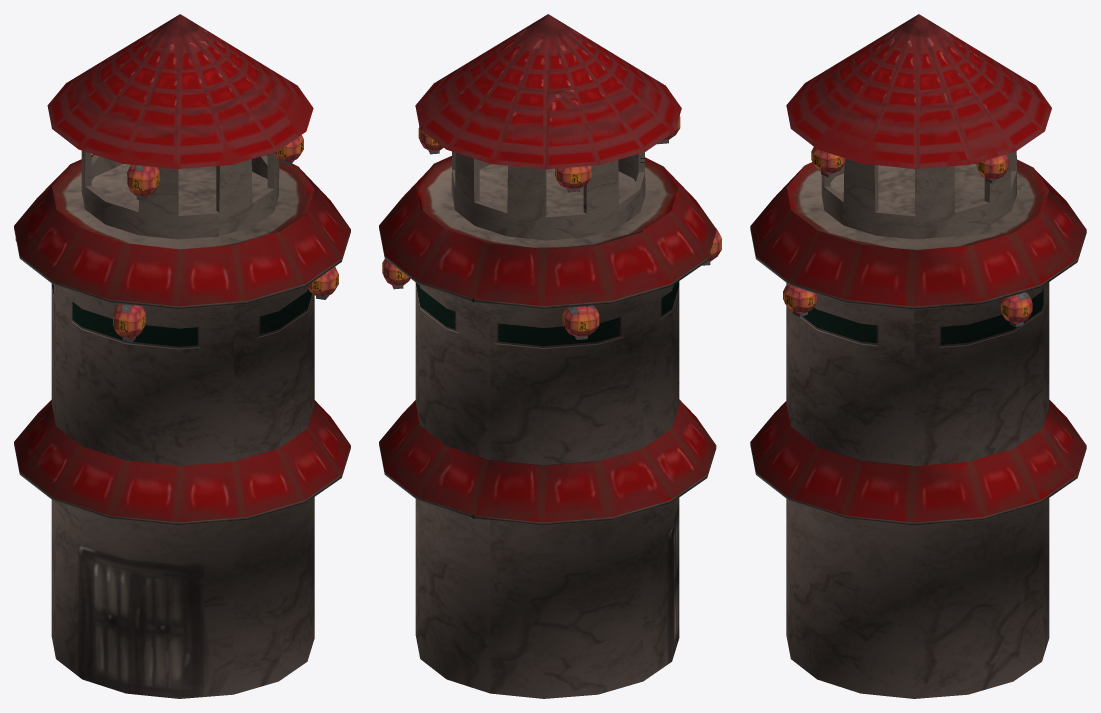
File: Tower 3 upgrade 2.fbx
The picture shows the model from 3 angles, left to right: view 1: azimuth 30°, elevation 25°; view 2: azimuth 150°, elevation 25°; view 3: azimuth 270°, elevation 25°; orthographic projection.
Parts seen in each view (by area): view 1: Cylinder.2, Cylinder, Cone, Cylinder.1, lampion 1.2.2, lampion 1.4, lampion 1.2, lampion 1.3; view 2: Cylinder.2, Cylinder, Cone, Cylinder.1, lampion 1.1, lampion 1.6; view 3: Cylinder.2, Cylinder, Cone, Cylinder.1, lampion 1, lampion 1.2, lampion 1.3, lampion 1.5.
Boxes of the visible parts, x1,y1,x2,y2 form: Cylinder.2: (14, 154, 350, 465); Cylinder: (14, 400, 350, 698); Cone: (47, 14, 313, 169); Cylinder.1: (81, 150, 279, 239); lampion 1.2.2: (113, 304, 145, 342); lampion 1.4: (127, 164, 159, 200); lampion 1.2: (307, 267, 338, 299); lampion 1.3: (273, 135, 303, 165); Cylinder.2: (379, 156, 716, 465); Cylinder: (379, 399, 716, 698); Cone: (415, 14, 681, 169); Cylinder.1: (451, 151, 645, 240); lampion 1.1: (562, 305, 599, 339); lampion 1.6: (555, 166, 591, 192); Cylinder.2: (750, 159, 1086, 465); Cylinder: (750, 400, 1086, 698); Cone: (786, 14, 1051, 168); Cylinder.1: (821, 151, 1016, 239); lampion 1: (1000, 292, 1032, 327); lampion 1.2: (783, 284, 817, 316); lampion 1.3: (811, 147, 845, 177); lampion 1.5: (976, 154, 1008, 183).
Bounding box in the file's own units: 243 × 503 × 244.
Materials: 12 (12 with a texture image).
